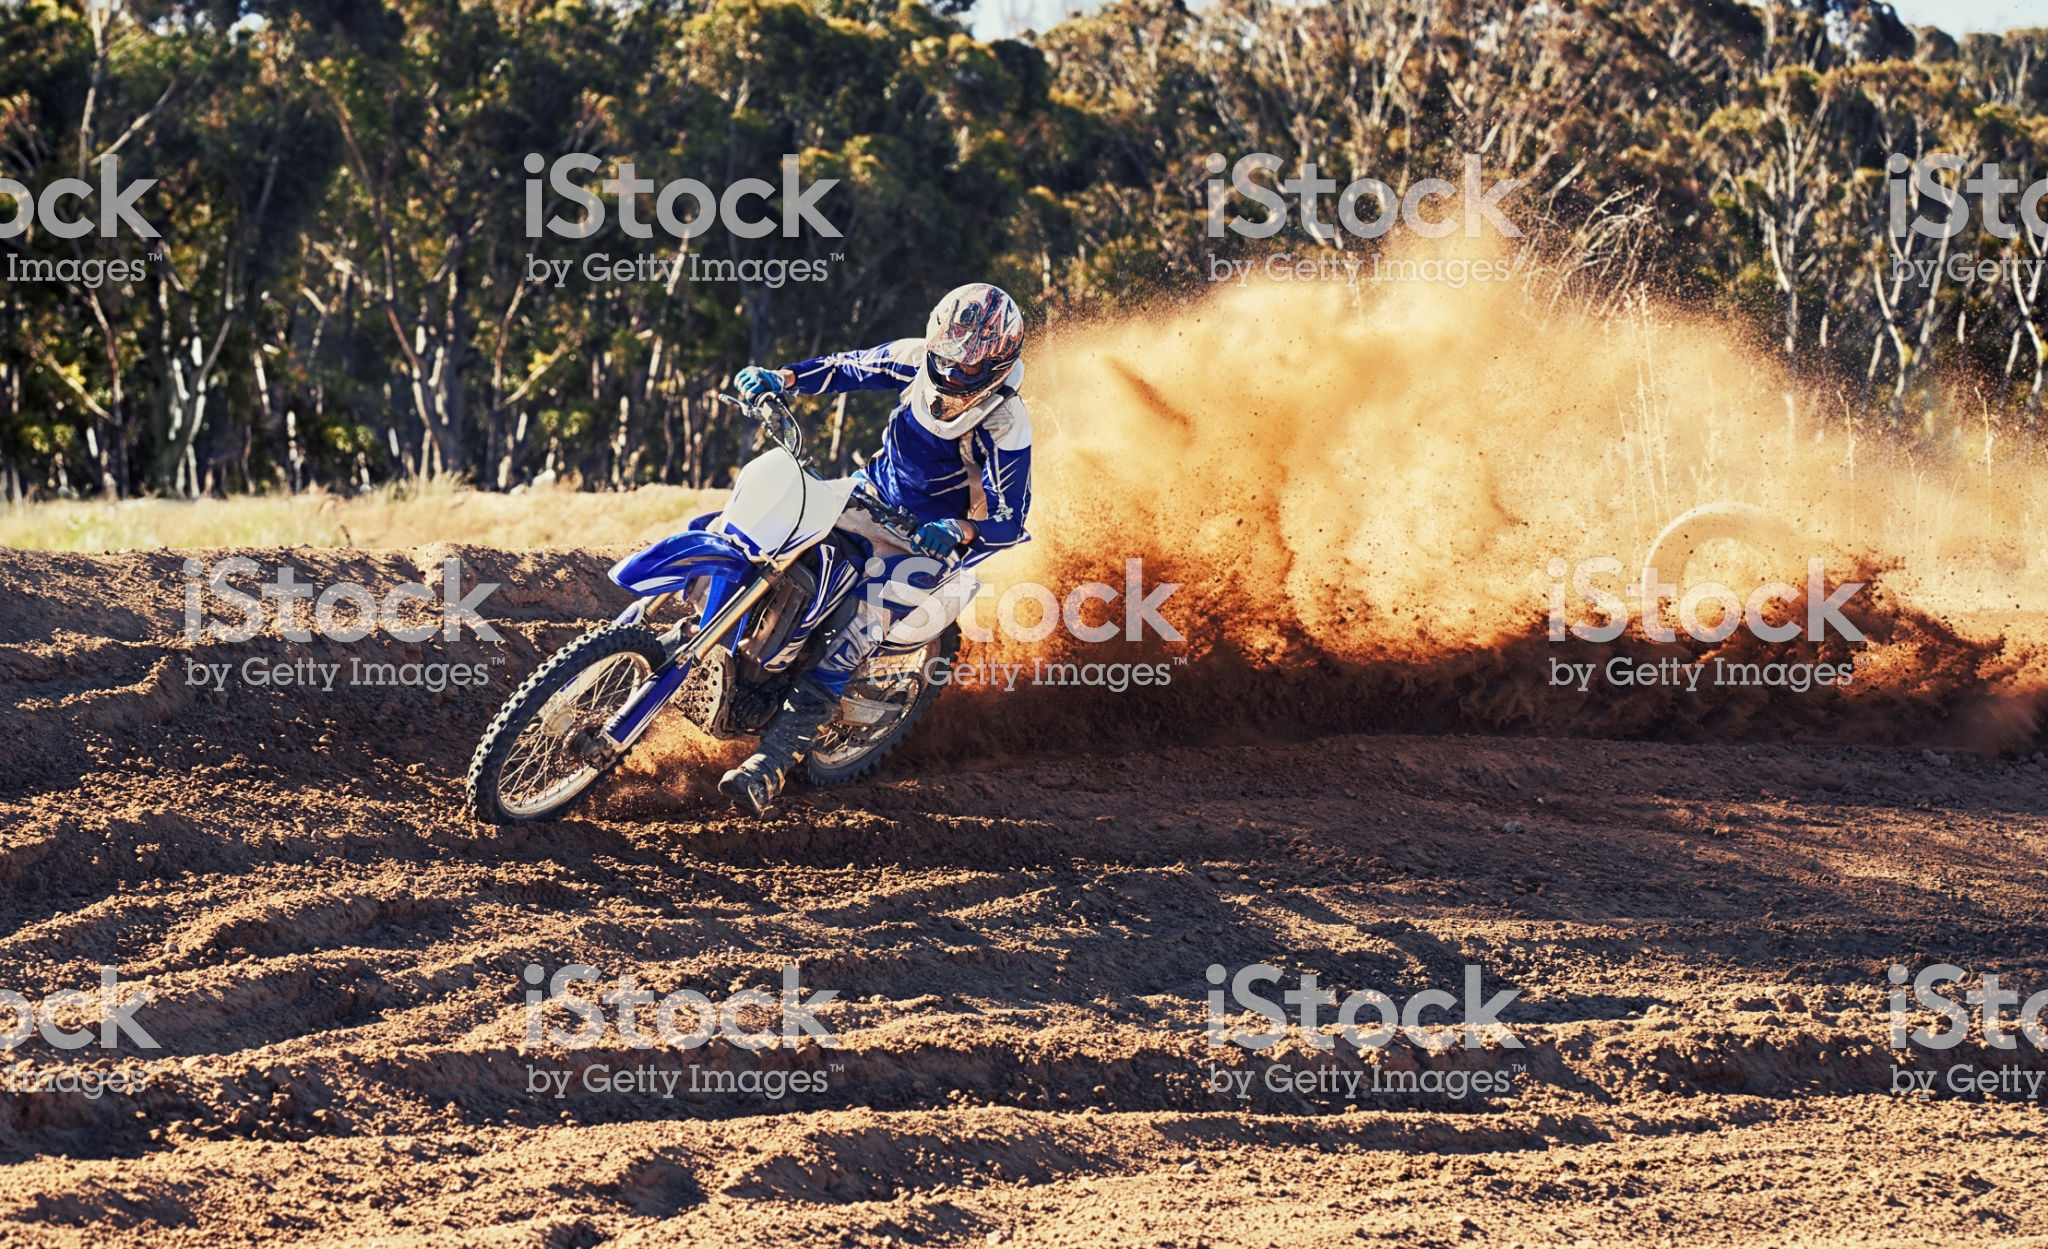helmet: (911, 257, 1025, 396)
